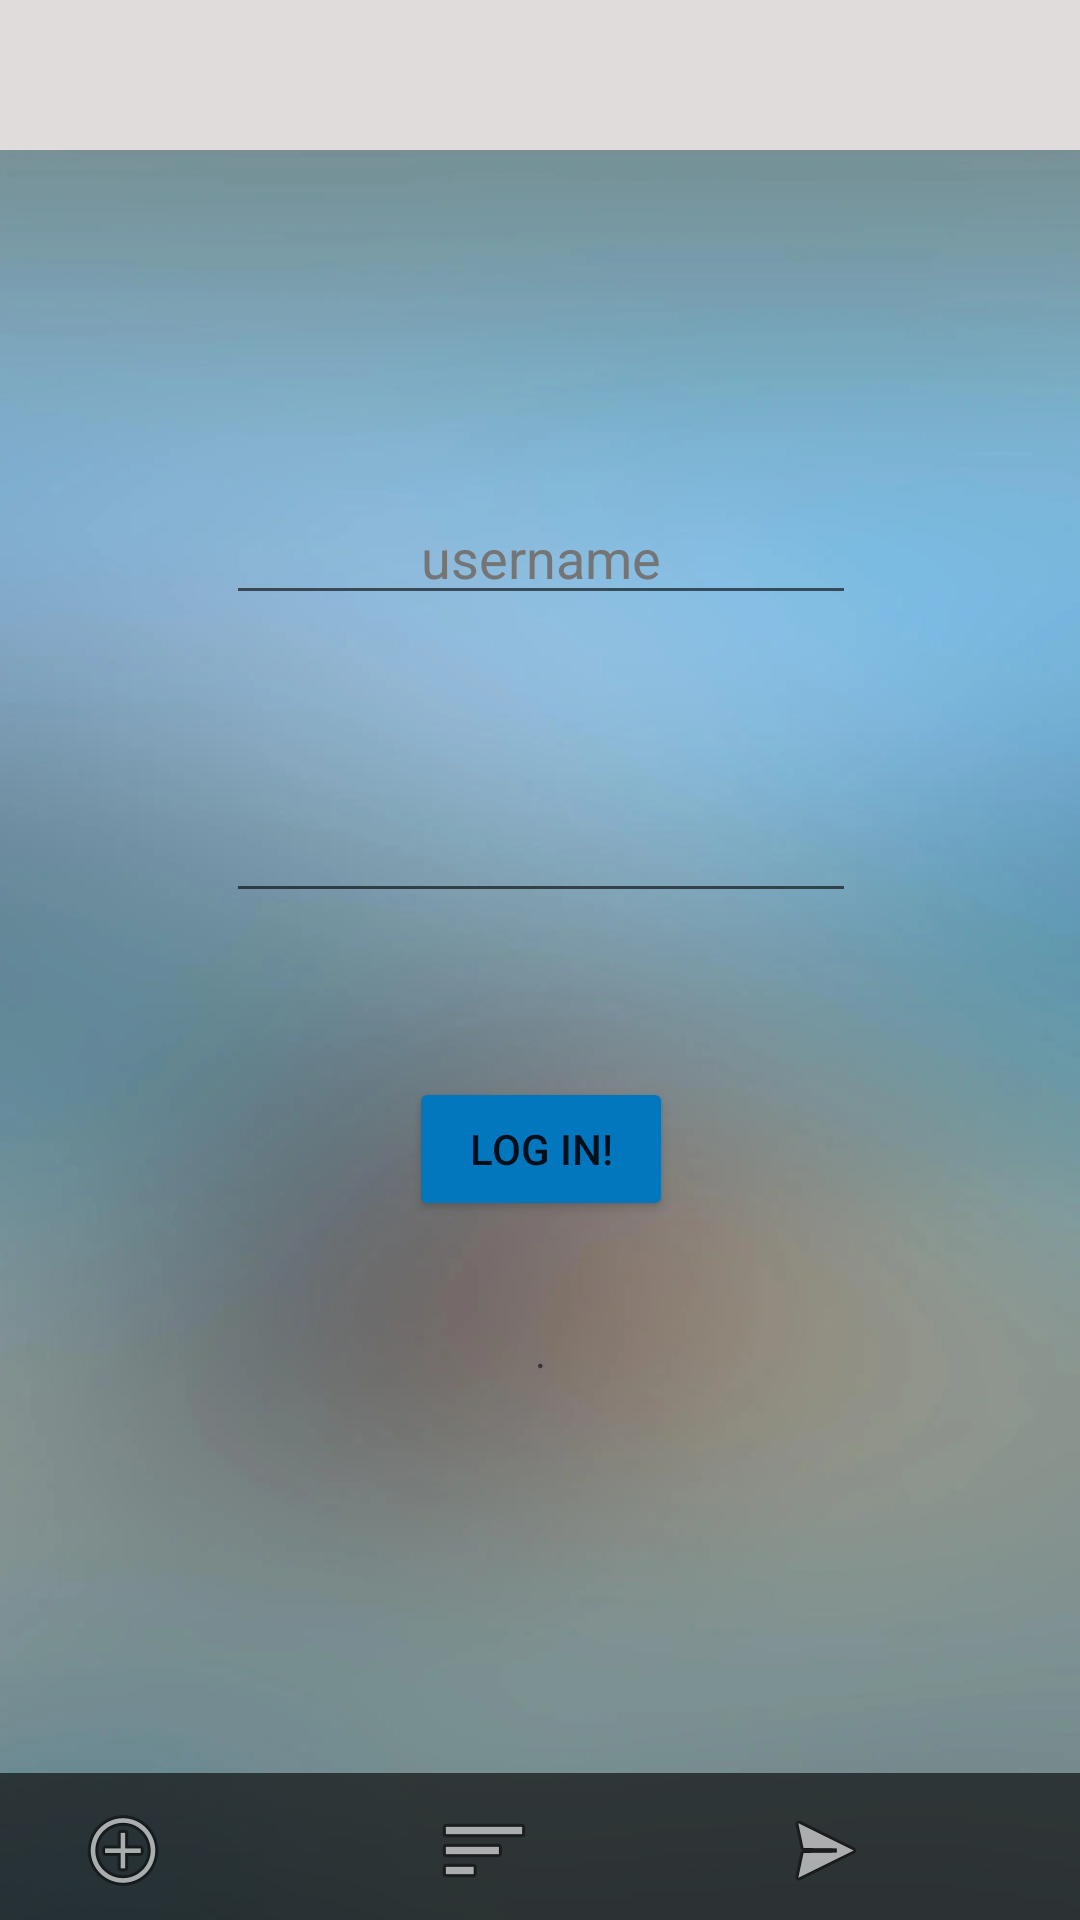

Icon bounding boxes for this 1080px x 1920px phone screenshot, format [x1, y1, x2, y2]:
add: [89, 1817, 157, 1884]
send: [797, 1822, 855, 1879]
sort by size: [444, 1825, 523, 1876]
